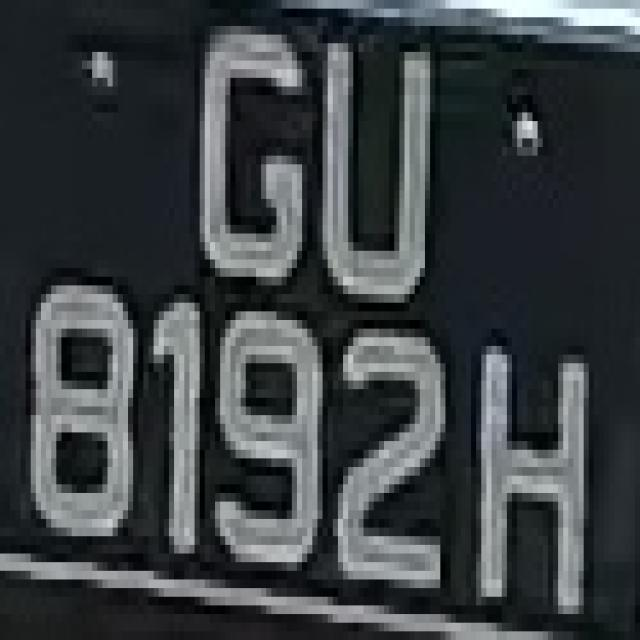1: (133, 268, 210, 571)
2: (338, 294, 450, 631)
8: (20, 251, 144, 562)
9: (205, 277, 328, 588)
G: (174, 9, 312, 328)
H: (461, 311, 604, 614)
U: (302, 9, 440, 311)
